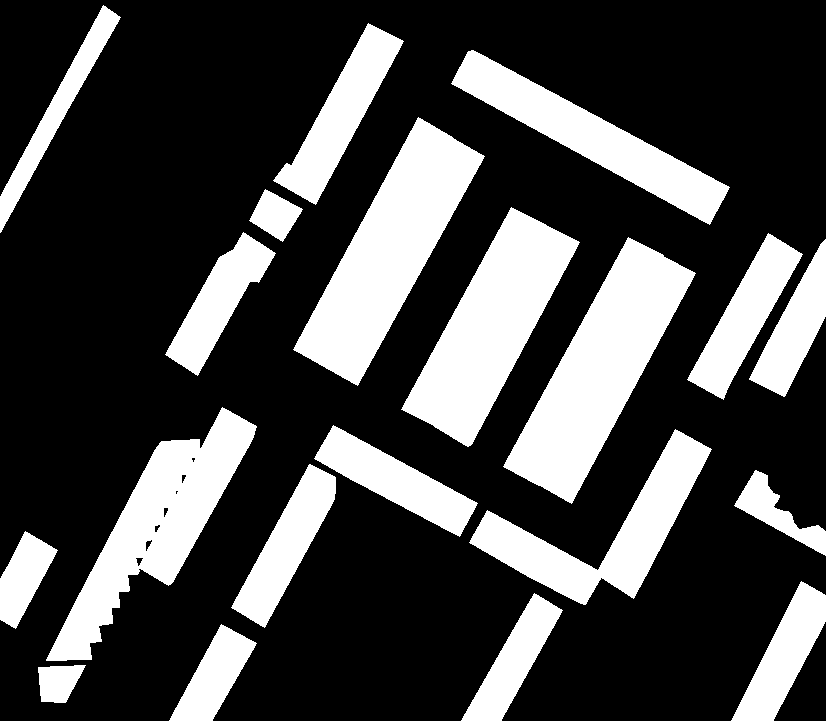parkingspot: (451, 50, 729, 224), (293, 117, 452, 368), (503, 237, 663, 485), (325, 136, 484, 385), (536, 255, 695, 503), (46, 439, 199, 660), (434, 224, 579, 446), (401, 207, 546, 427), (0, 5, 120, 232), (273, 23, 403, 204), (138, 407, 256, 585), (597, 429, 711, 598), (687, 233, 802, 399), (314, 425, 477, 536), (231, 464, 335, 627), (165, 232, 275, 375), (731, 581, 826, 721), (461, 593, 562, 721), (469, 510, 603, 604), (749, 239, 826, 396), (169, 624, 256, 721), (734, 470, 826, 555), (0, 531, 57, 628), (249, 189, 302, 241), (38, 665, 85, 702)
